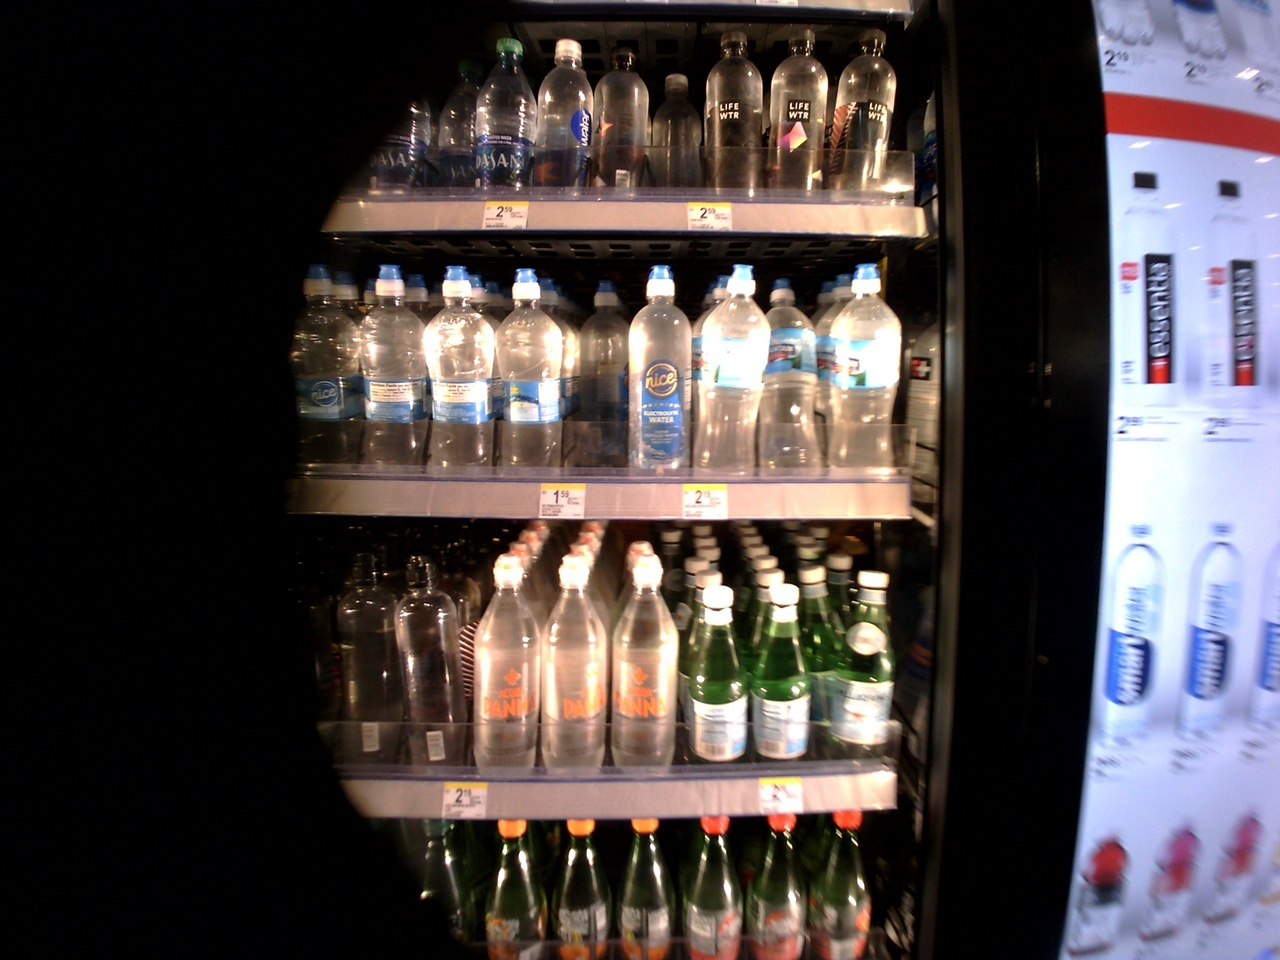shelf: (299, 520, 925, 833), (273, 255, 907, 524), (294, 25, 929, 238)
